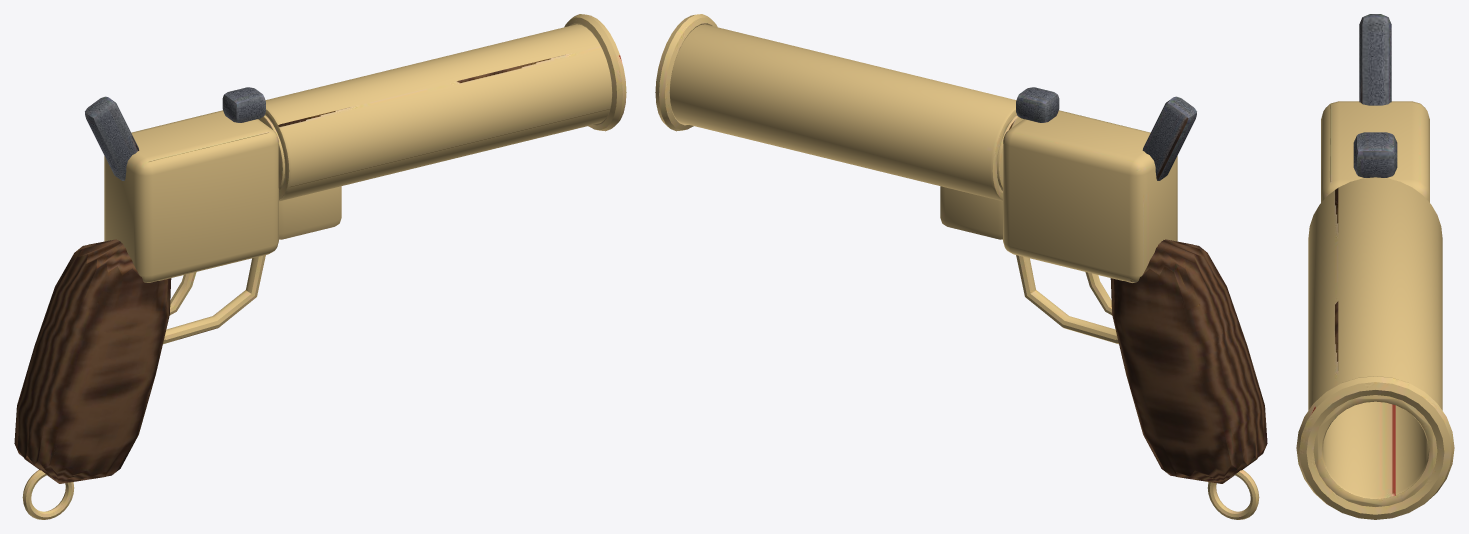
The model's file is flarepistol.glb.
The picture shows the model from 3 angles, left to right: view 1: azimuth 30°, elevation 25°; view 2: azimuth 150°, elevation 25°; view 3: azimuth 270°, elevation 25°; orthographic projection. The views are drawn at different scales.
Parts seen in each view (by area): view 1: barrel, grip, frame, lug, hammer, muzzle_ring, trigger_guard, catch, lanyard_ring; view 2: barrel, grip, frame, lug, hammer, muzzle_ring, trigger_guard, catch, lanyard_ring; view 3: barrel, frame, muzzle_ring, hammer, catch.
Boxes of the visible parts, left/top/right/bottom form: barrel: left=265, top=24, right=612, bottom=201; grip: left=14, top=239, right=171, bottom=483; frame: left=104, top=110, right=278, bottom=282; lug: left=279, top=186, right=341, bottom=239; hammer: left=85, top=96, right=139, bottom=180; muzzle_ring: left=564, top=14, right=626, bottom=131; trigger_guard: left=163, top=255, right=265, bottom=344; catch: left=222, top=87, right=265, bottom=122; lanyard_ring: left=22, top=470, right=74, bottom=519; barrel: left=669, top=24, right=1016, bottom=201; grip: left=1110, top=239, right=1267, bottom=483; frame: left=1003, top=110, right=1177, bottom=282; lug: left=940, top=186, right=1002, bottom=239; hammer: left=1142, top=96, right=1196, bottom=180; muzzle_ring: left=655, top=14, right=717, bottom=131; trigger_guard: left=1016, top=255, right=1118, bottom=344; catch: left=1016, top=87, right=1059, bottom=122; lanyard_ring: left=1207, top=470, right=1259, bottom=519; barrel: left=1308, top=177, right=1442, bottom=506; frame: left=1321, top=101, right=1429, bottom=202; muzzle_ring: left=1296, top=376, right=1454, bottom=519; hammer: left=1359, top=14, right=1391, bottom=105; catch: left=1353, top=132, right=1397, bottom=177.
Bounding box in the file's own units: 0.2418 × 0.1624 × 0.0436.
1 material, 1 textured.
